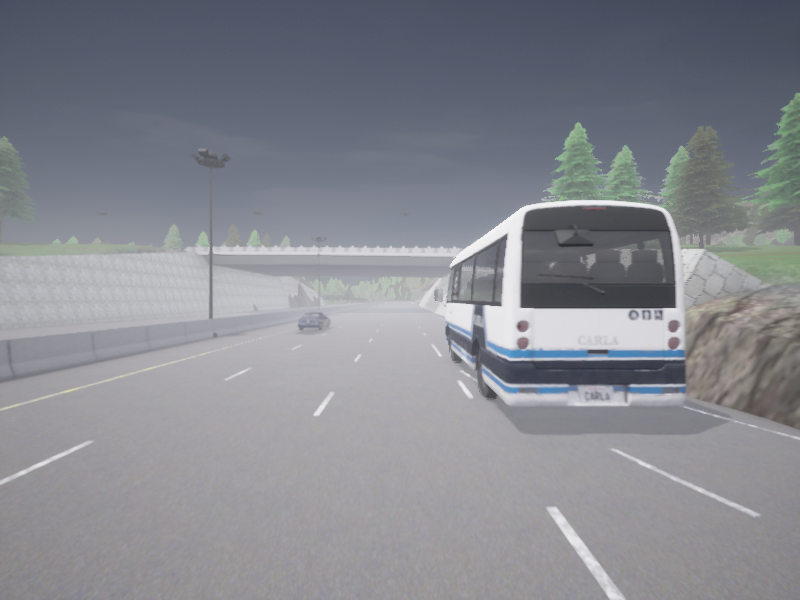vehicle: (434, 200, 685, 405), (297, 312, 330, 329)
